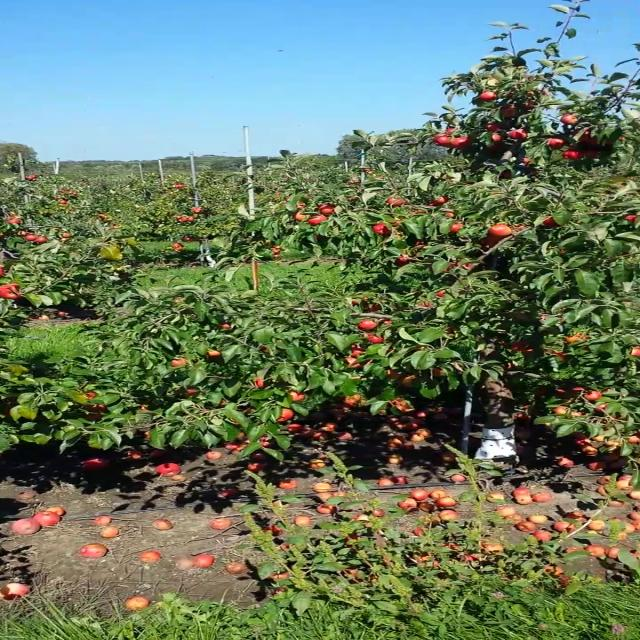apple: (484, 221, 514, 249), (82, 391, 105, 411), (390, 394, 414, 412), (550, 404, 586, 416), (0, 282, 23, 300), (564, 331, 590, 345), (488, 223, 512, 237), (334, 394, 362, 406), (274, 406, 292, 424), (511, 338, 534, 352), (347, 342, 368, 357), (558, 111, 580, 125), (372, 222, 394, 236), (571, 431, 598, 442), (343, 355, 364, 369), (449, 258, 473, 270), (553, 387, 577, 399), (450, 134, 470, 148), (508, 128, 528, 142), (561, 147, 584, 159), (383, 367, 405, 379), (580, 388, 602, 400), (476, 91, 496, 104), (358, 320, 381, 331), (548, 135, 566, 149), (482, 234, 503, 246), (571, 129, 590, 142), (431, 134, 451, 146), (292, 209, 312, 221), (400, 374, 418, 387), (360, 317, 378, 330), (591, 137, 614, 147), (503, 104, 520, 117), (507, 128, 529, 138), (363, 332, 385, 342), (564, 150, 584, 161), (449, 221, 467, 233), (541, 216, 562, 226), (562, 114, 578, 127), (385, 197, 408, 206), (289, 390, 306, 402), (482, 123, 502, 133), (316, 204, 336, 214), (308, 214, 328, 224), (548, 350, 568, 360), (168, 356, 188, 366), (569, 385, 589, 395), (542, 218, 558, 230), (583, 444, 600, 455), (482, 142, 500, 152), (582, 148, 600, 158), (364, 302, 382, 312), (548, 137, 564, 148), (477, 91, 498, 99), (251, 376, 265, 388), (488, 133, 504, 143), (428, 196, 448, 204), (591, 432, 607, 442), (350, 297, 369, 305), (398, 254, 412, 264), (623, 213, 636, 223), (185, 386, 198, 396), (594, 401, 607, 411), (204, 349, 222, 356), (606, 438, 620, 447), (519, 157, 531, 167), (85, 413, 102, 420), (500, 168, 510, 178), (629, 346, 639, 356), (215, 323, 231, 329), (447, 126, 456, 136), (378, 317, 393, 323), (297, 201, 308, 209), (436, 288, 447, 296), (522, 101, 532, 109), (140, 400, 148, 410), (629, 434, 639, 442), (59, 232, 71, 238), (37, 236, 47, 243), (445, 212, 456, 218), (25, 234, 36, 240), (183, 237, 194, 242), (9, 219, 19, 224), (433, 369, 442, 374), (420, 302, 431, 306), (0, 265, 4, 275), (620, 136, 626, 142), (194, 208, 201, 213), (177, 184, 185, 188), (59, 200, 67, 204), (315, 235, 321, 240), (175, 247, 182, 251), (272, 249, 279, 253), (172, 243, 178, 247), (276, 245, 282, 249), (111, 226, 118, 229), (31, 175, 37, 178), (98, 214, 104, 217), (274, 254, 280, 257), (268, 241, 272, 245), (27, 177, 32, 180), (189, 218, 193, 221), (176, 216, 182, 218), (178, 220, 184, 222), (72, 193, 78, 195), (68, 192, 74, 194), (182, 218, 187, 220)
